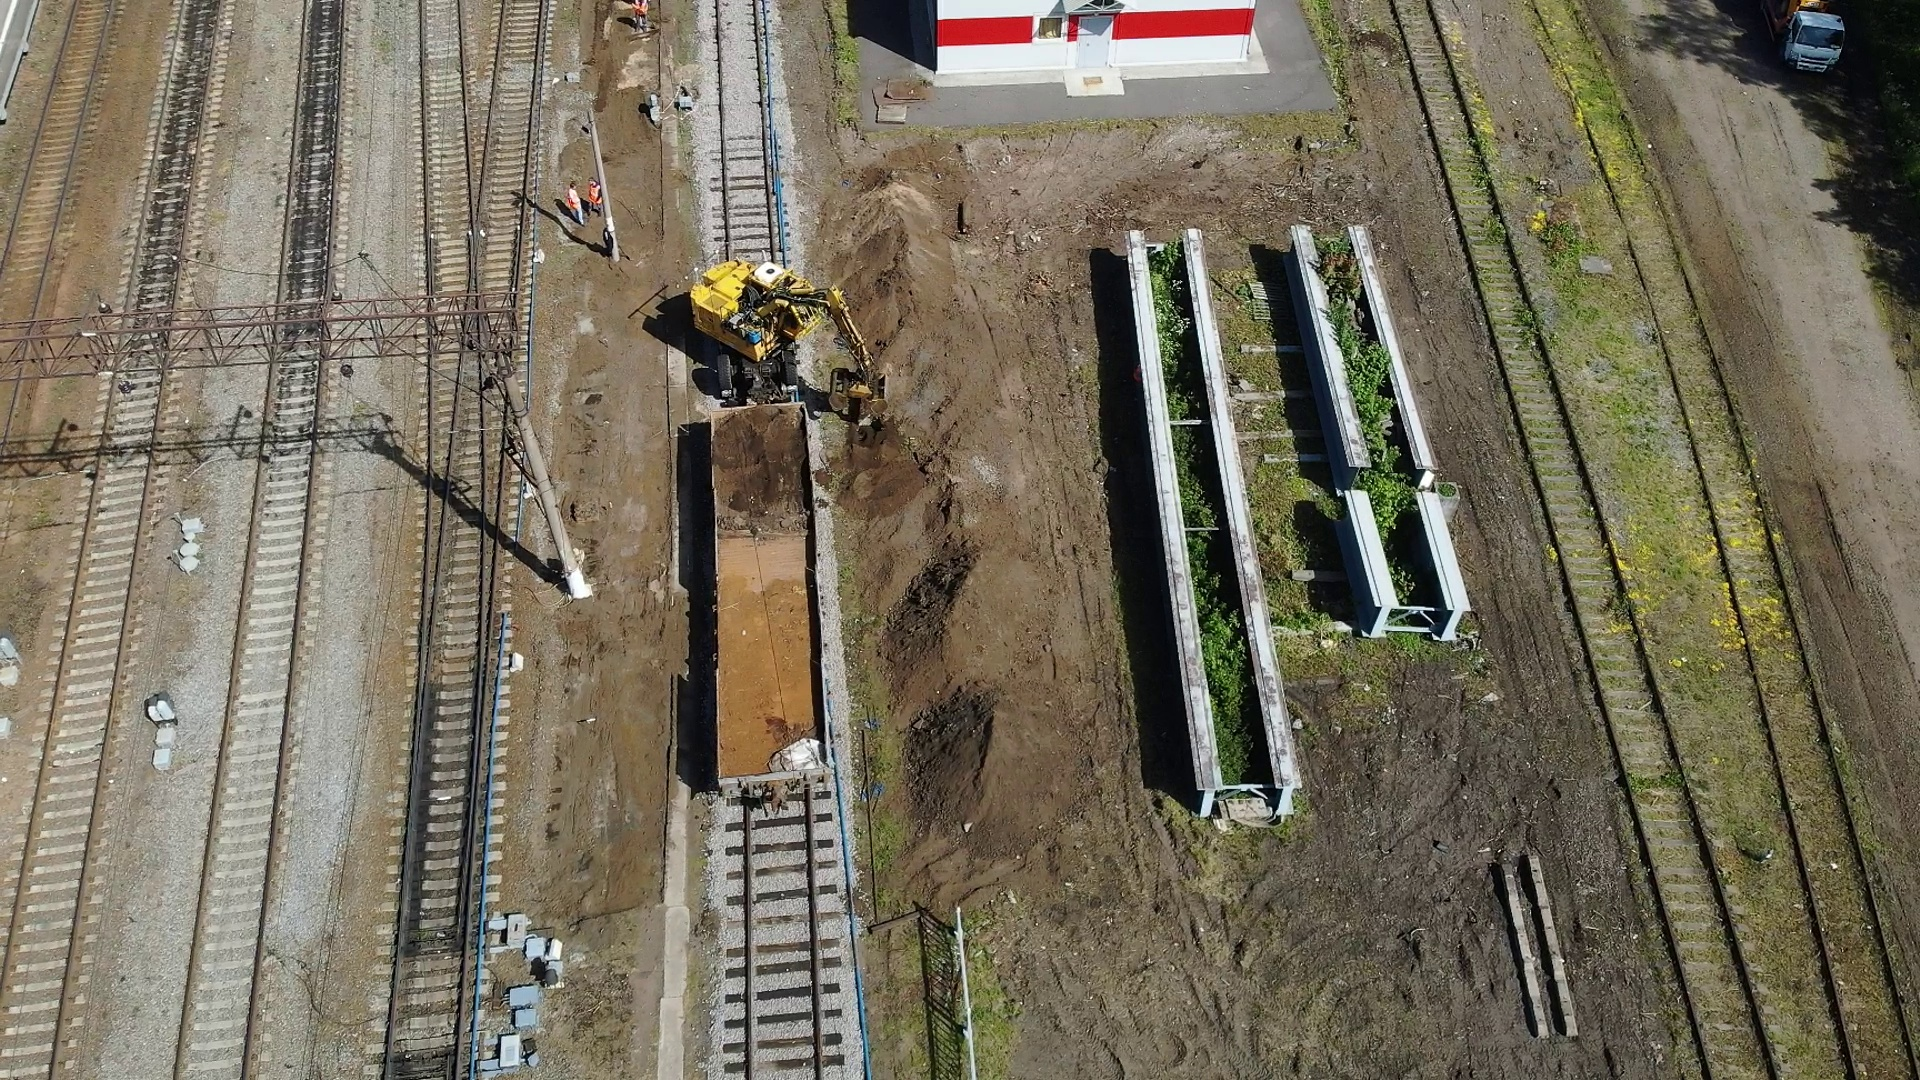kjtv: (684, 261, 842, 391)
